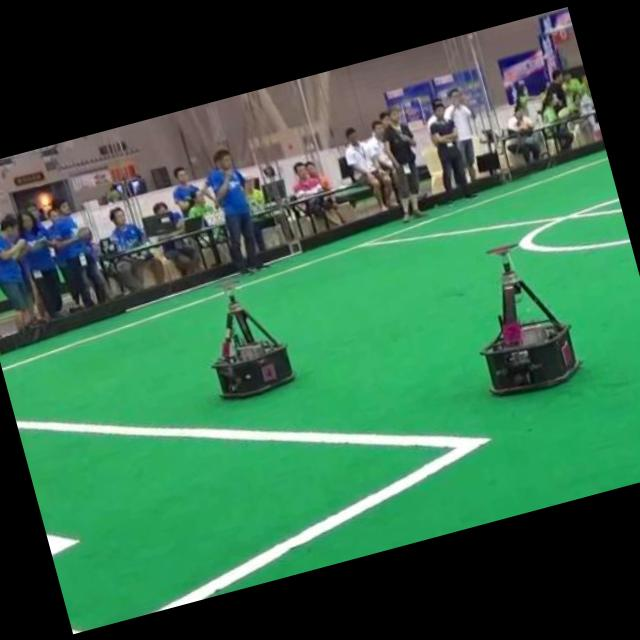robot: (481, 262, 577, 394), (213, 295, 293, 397)
